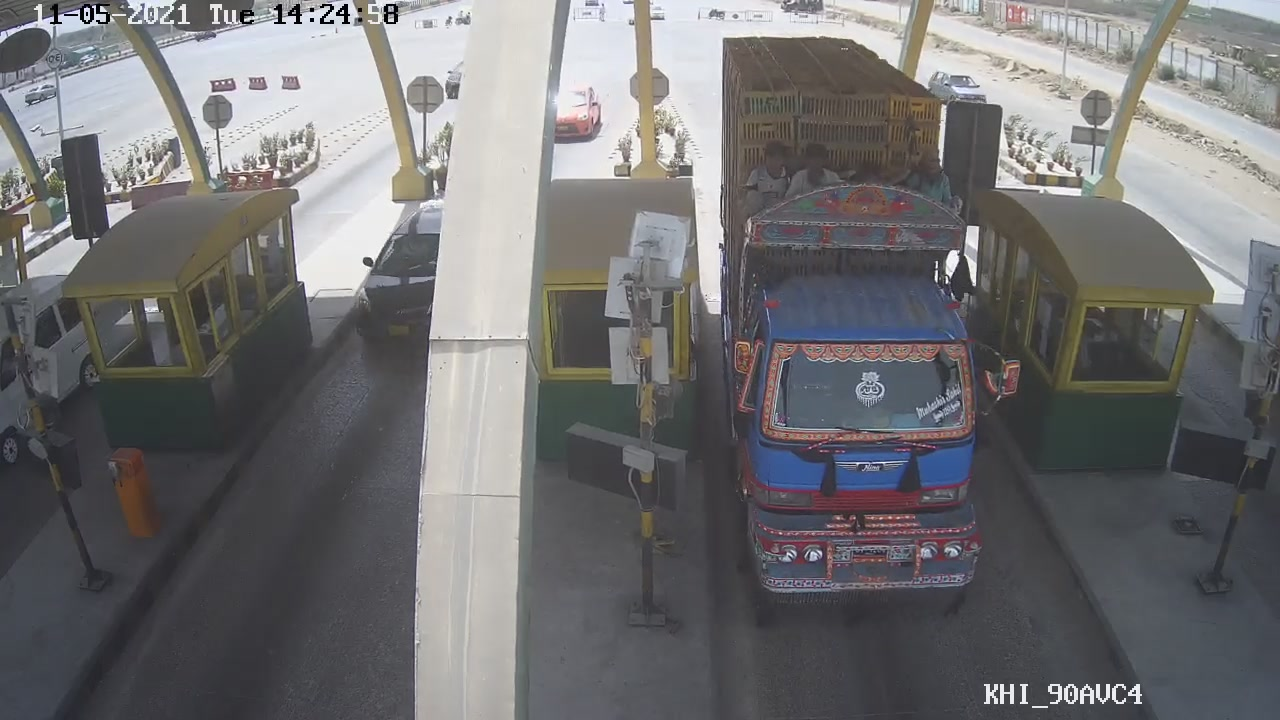F5: (716, 40, 1019, 606)
